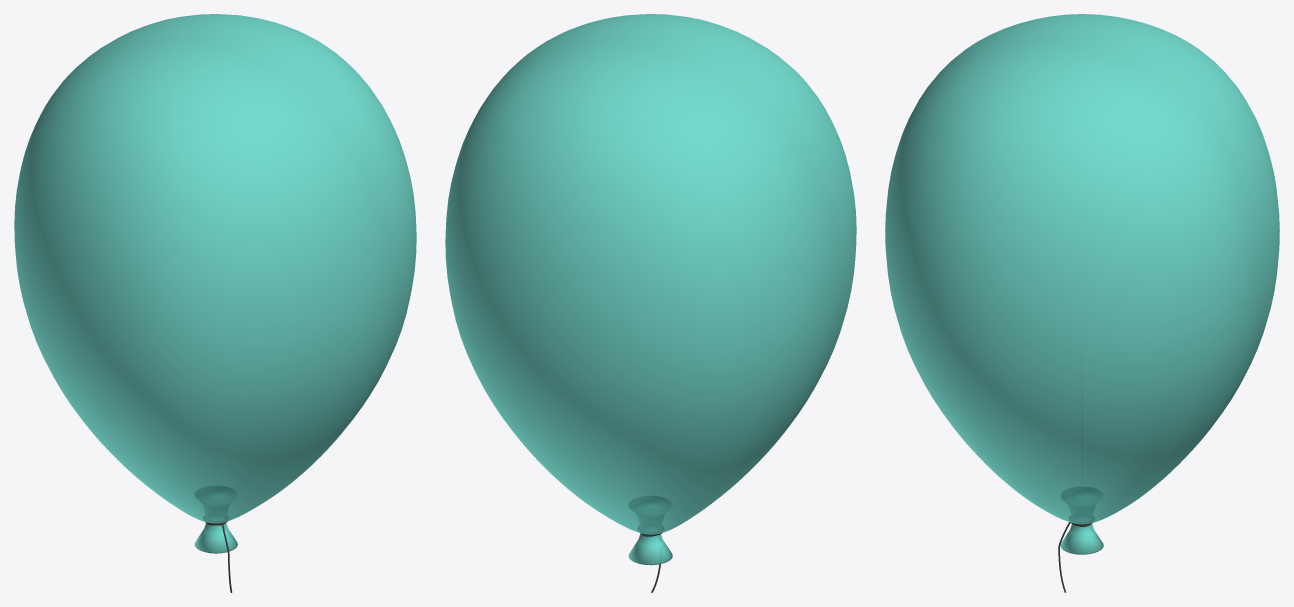
Rendered from ballon_ciel.glb.
3 views of the same model, side by side, from view 1: azimuth 30°, elevation 25°; view 2: azimuth 150°, elevation 25°; view 3: azimuth 270°, elevation 25° (orthographic). The views are drawn at different scales.
Visible parts, largest first — view 1: Cube.003, Cylinder.006; view 2: Cube.003, Cylinder.006; view 3: Cube.003, Cylinder.006.
Boxes of the visible parts, left/top/right/bottom form: Cube.003: left=14, top=14, right=416, bottom=523; Cylinder.006: left=194, top=486, right=237, bottom=553; Cube.003: left=445, top=14, right=856, bottom=534; Cylinder.006: left=628, top=496, right=672, bottom=565; Cube.003: left=885, top=14, right=1279, bottom=524; Cylinder.006: left=1060, top=487, right=1103, bottom=554.
Size of the model in its own units: 71.29 by 110 by 71.29.
